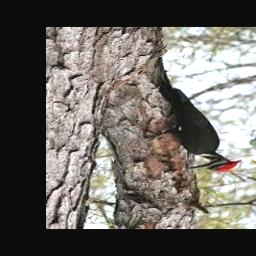Woodpecker: (144, 58, 242, 172)
